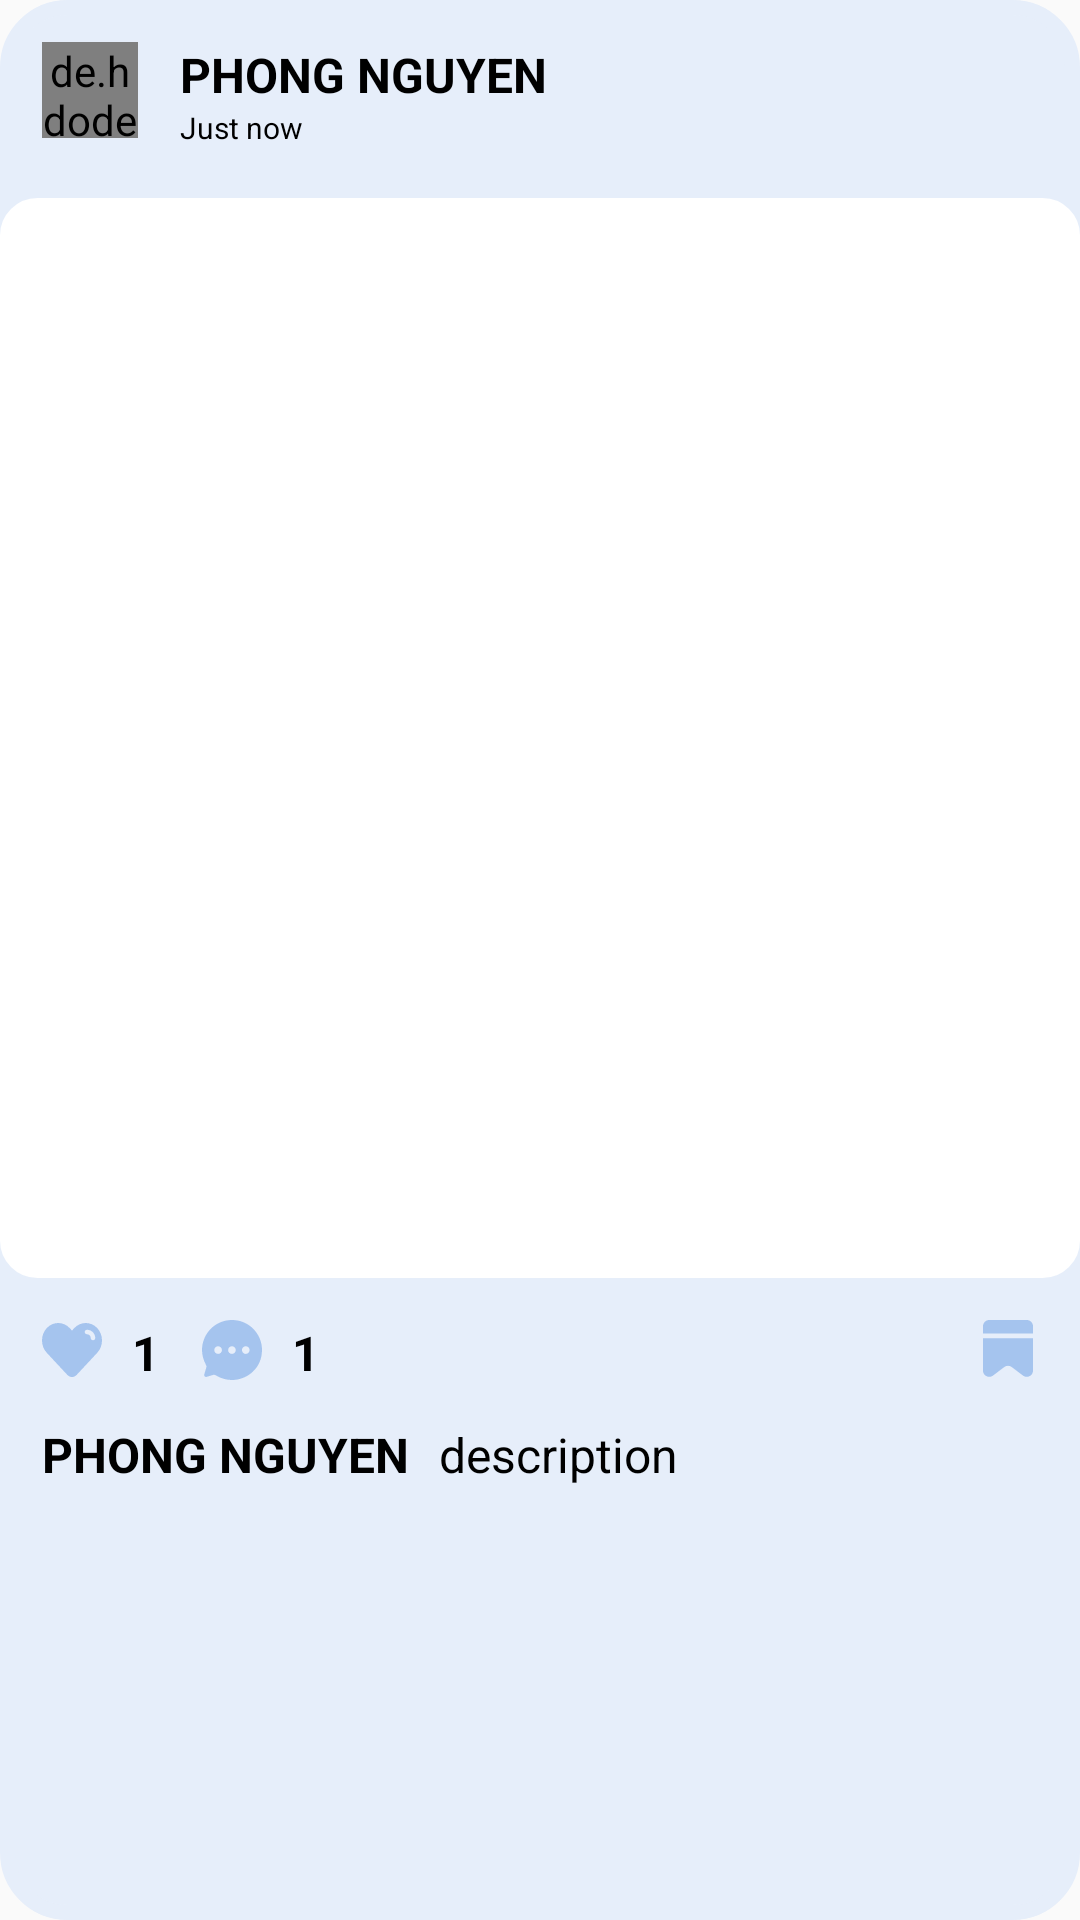

Locate icon controls on the screen. Image size 1080*1920, boxes as (x1, y1, x2, y2).
chat: (202, 1320, 262, 1380)
like: (42, 1323, 102, 1377)
save: (983, 1320, 1033, 1377)
